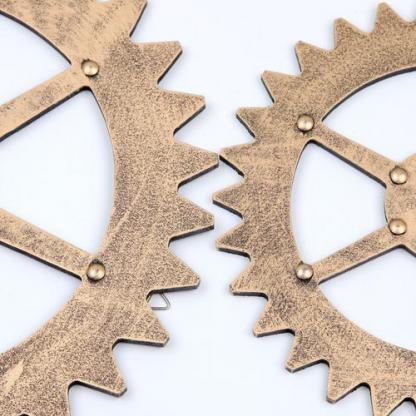FOD: (0, 0, 218, 415), (218, 0, 415, 415)
